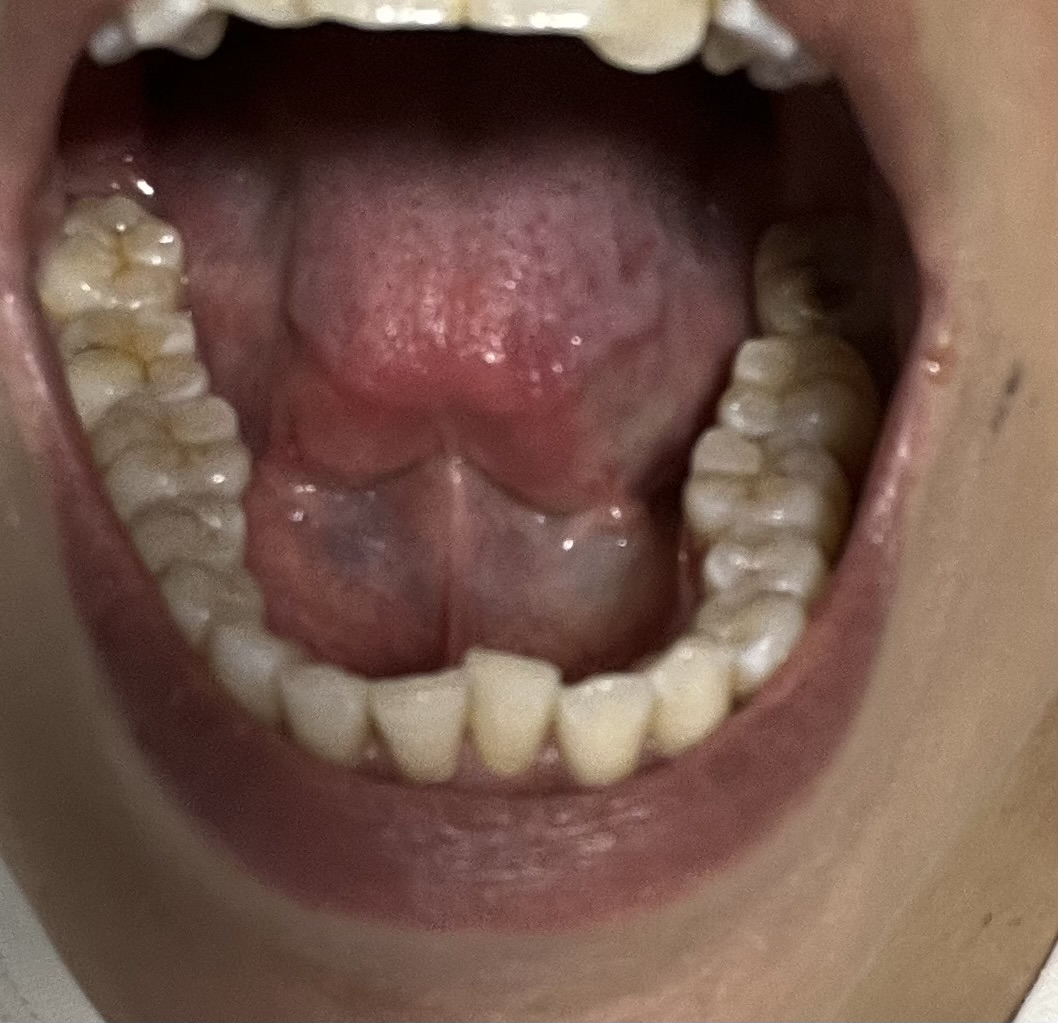teeth: (685, 435, 848, 558), (35, 200, 184, 308), (90, 407, 227, 518), (726, 348, 868, 447), (72, 319, 201, 425), (475, 650, 556, 782), (201, 625, 297, 731), (373, 686, 475, 783), (556, 677, 649, 780), (704, 603, 808, 678), (658, 653, 736, 752), (133, 499, 235, 574), (287, 664, 360, 766), (704, 543, 823, 600)
